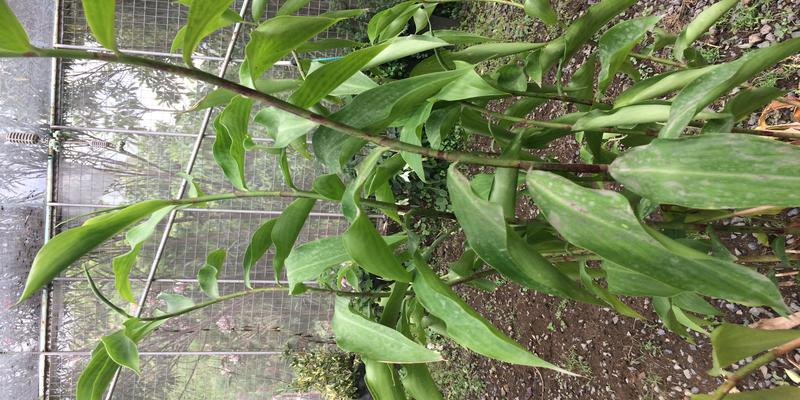Insulin: (188, 48, 788, 325)
